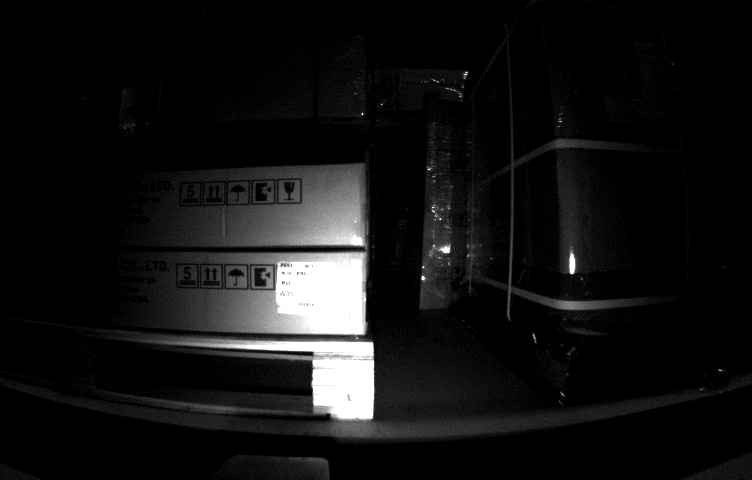True Barcode: (273, 258, 337, 312)
